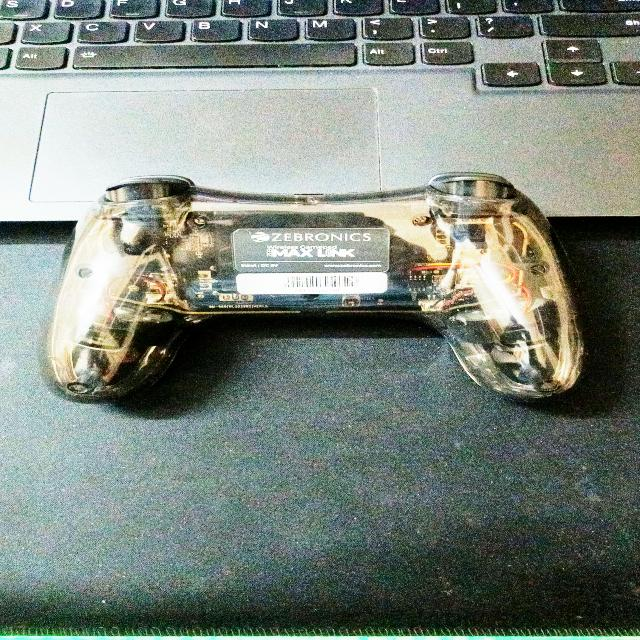gamepad: (46, 171, 586, 403)
